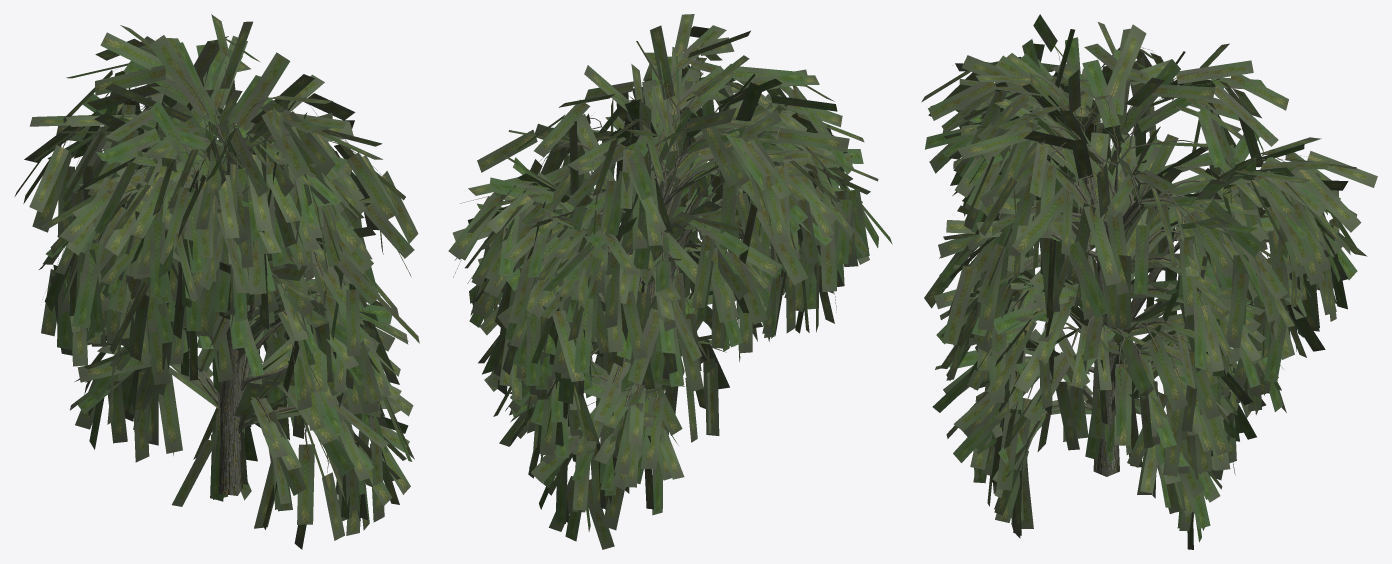
Rendered from SM_Willow.fbx.
The picture shows the model from 3 angles, left to right: view 1: azimuth 30°, elevation 25°; view 2: azimuth 150°, elevation 25°; view 3: azimuth 270°, elevation 25°; orthographic projection. The views are drawn at different scales.
Parts seen in each view (by area): view 1: SM_Willow; view 2: SM_Willow; view 3: SM_Willow.
Part boxes in pixels (box(x1,y1,x2,y2)): SM_Willow: box(14, 14, 419, 549); SM_Willow: box(448, 14, 892, 549); SM_Willow: box(921, 14, 1377, 549).
Bounding box in the file's own units: 1011 × 1152 × 1304.
2 materials, 2 textured.
